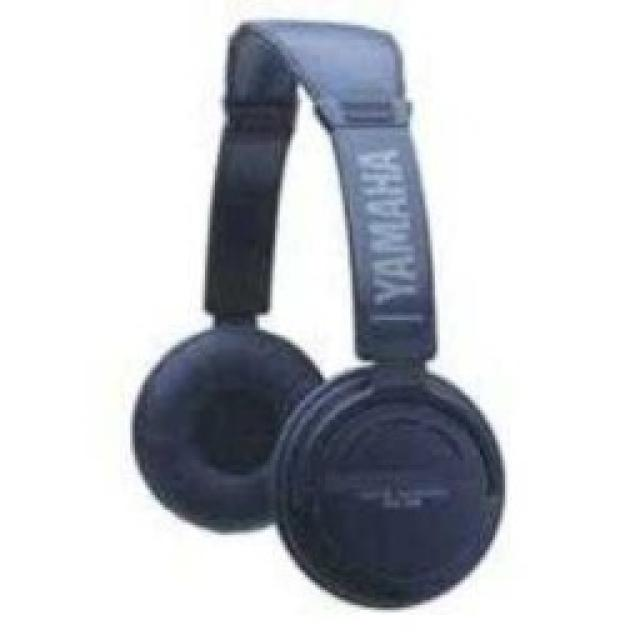headphones: (128, 15, 508, 607)
